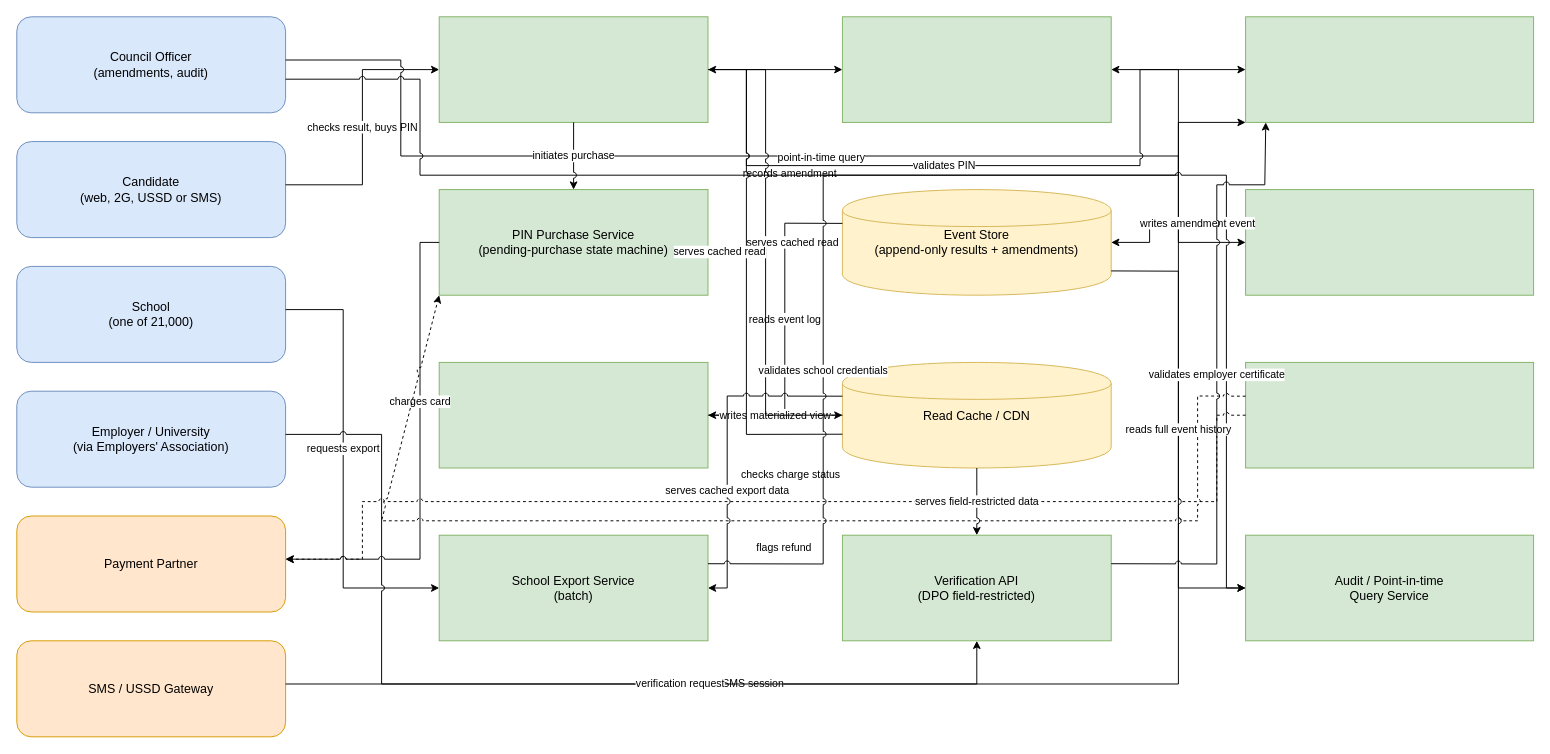
Some shapes in this 1550 by 754 pixel diagram are drawn without their labels. Each missing label, with the centre of its shape:
"Amendment Service (officer facing)" belongs at point (1389, 242).
"Candidate Web / API Gateway" belongs at point (573, 69).
"Identity & Auth Service (PIN, school keys, employer mTLS, officer accounts)" belongs at point (1389, 69).
"Materialization Service" belongs at point (573, 414).
"Reconciliation Job (scheduled, double-charge detection)" belongs at point (1389, 414).
"USSD / SMS Adapter" belongs at point (976, 69).
